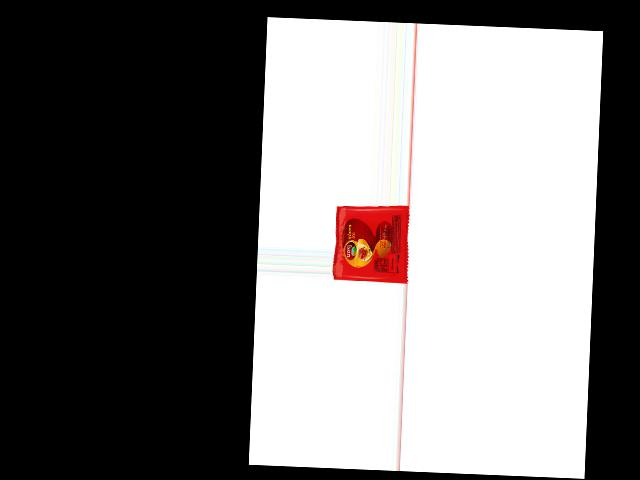cheese: (333, 205, 411, 284)
